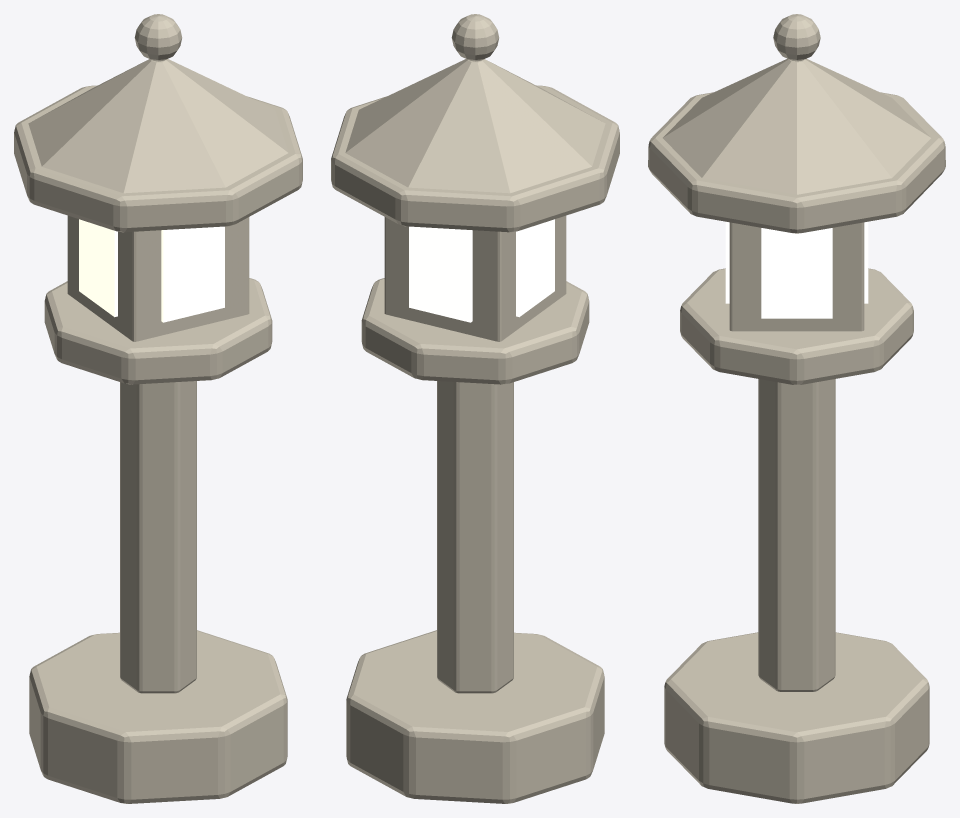
Rendered from stone_lantern.glb.
3 views of the same model, side by side, from view 1: azimuth 30°, elevation 25°; view 2: azimuth 150°, elevation 25°; view 3: azimuth 270°, elevation 25° (orthographic).
Visible parts, largest first — view 1: StoneLantern; view 2: StoneLantern; view 3: StoneLantern.
Part boxes in pixels (left/top/right/bottom): StoneLantern: left=14, top=14, right=302, bottom=803; StoneLantern: left=331, top=14, right=619, bottom=803; StoneLantern: left=648, top=14, right=945, bottom=803.
Bounding box in the file's own units: 0.7523 × 2.05 × 0.7537.
